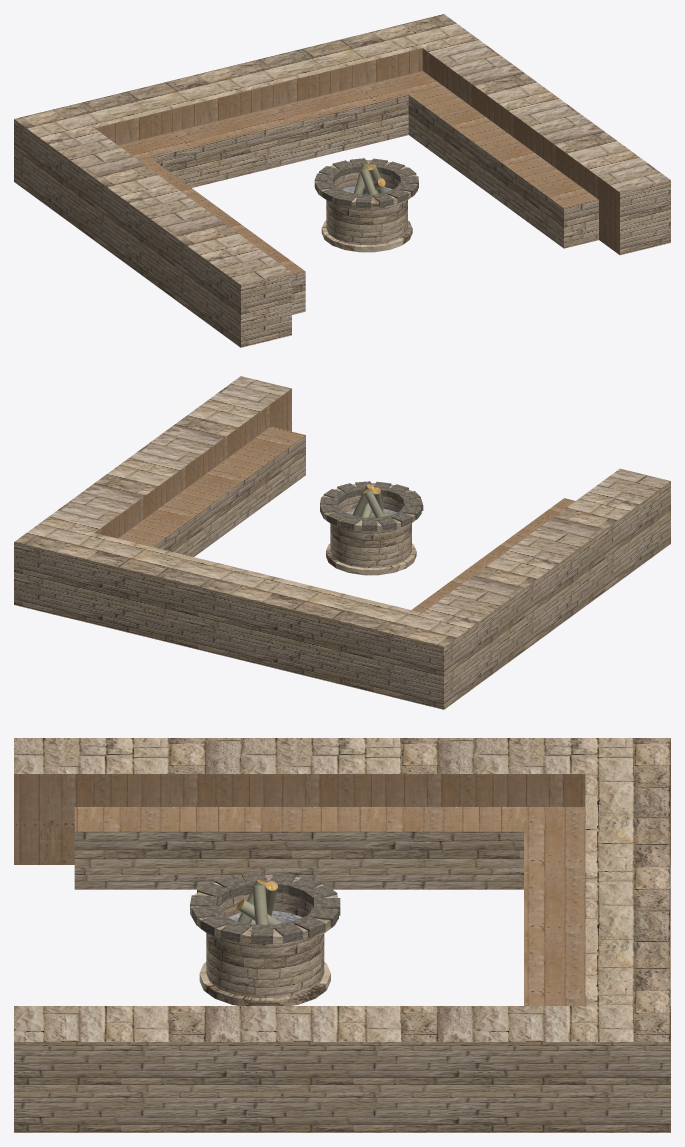
The model's file is game_ready_fire_pit_with_seating.glb.
The picture shows the model from 3 angles, top to bottom: view 1: azimuth 30°, elevation 25°; view 2: azimuth 150°, elevation 25°; view 3: azimuth 270°, elevation 25°; orthographic projection. The views are drawn at different scales.
Visible parts, largest first — view 1: Seating_07 - Default_0, Seating_09 - Default_0, Firepit_07 - Default_0, Firepit_03 - Default_0, Firepit_01 - Default_0; view 2: Seating_07 - Default_0, Seating_09 - Default_0, Firepit_07 - Default_0, Firepit_03 - Default_0, Firepit_01 - Default_0; view 3: Seating_07 - Default_0, Seating_09 - Default_0, Firepit_07 - Default_0, Firepit_03 - Default_0, Firepit_01 - Default_0.
Part boxes in pixels (x1,y1,x2,y2): Seating_07 - Default_0: [14, 14, 670, 347]; Seating_09 - Default_0: [95, 48, 619, 274]; Firepit_07 - Default_0: [314, 159, 417, 252]; Firepit_03 - Default_0: [314, 158, 418, 208]; Firepit_01 - Default_0: [354, 163, 386, 194]; Seating_07 - Default_0: [14, 376, 670, 709]; Seating_09 - Default_0: [95, 388, 575, 612]; Firepit_07 - Default_0: [320, 483, 421, 575]; Firepit_03 - Default_0: [320, 481, 423, 531]; Firepit_01 - Default_0: [352, 486, 392, 517]; Seating_07 - Default_0: [14, 738, 670, 1132]; Seating_09 - Default_0: [14, 774, 670, 1005]; Firepit_07 - Default_0: [190, 874, 338, 1005]; Firepit_03 - Default_0: [190, 872, 340, 944]; Firepit_01 - Default_0: [237, 880, 281, 924].
Bounding box in the file's own units: 505 × 76.98 × 461.
6 materials, 6 textured.
